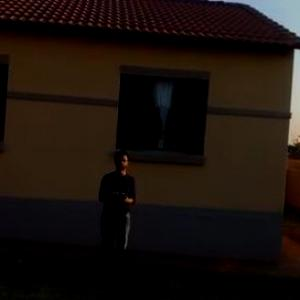follow: (89, 141, 138, 290)
